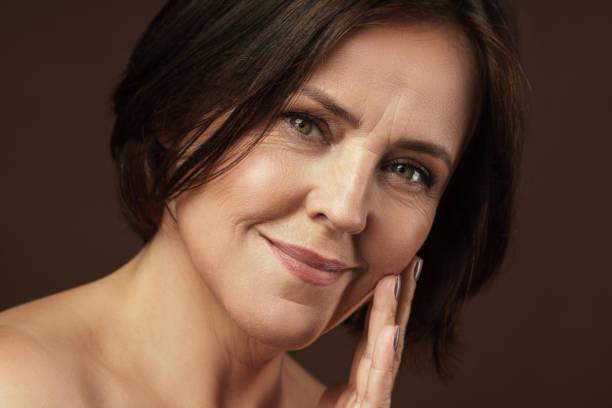Dry-Skin: (355, 47, 483, 140), (227, 136, 307, 228)
